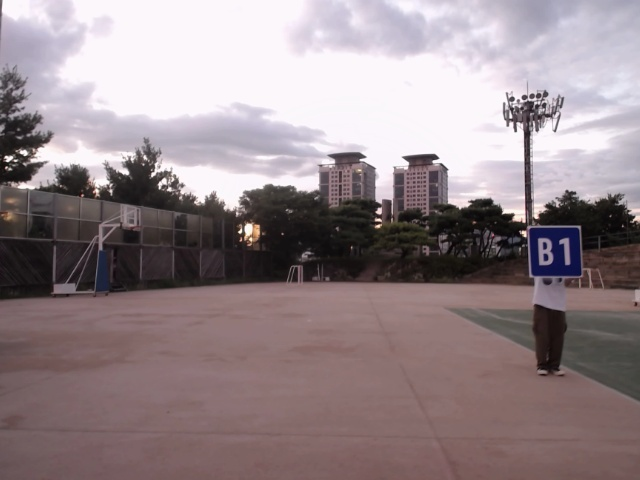delivery_b1: (528, 226, 582, 278)
